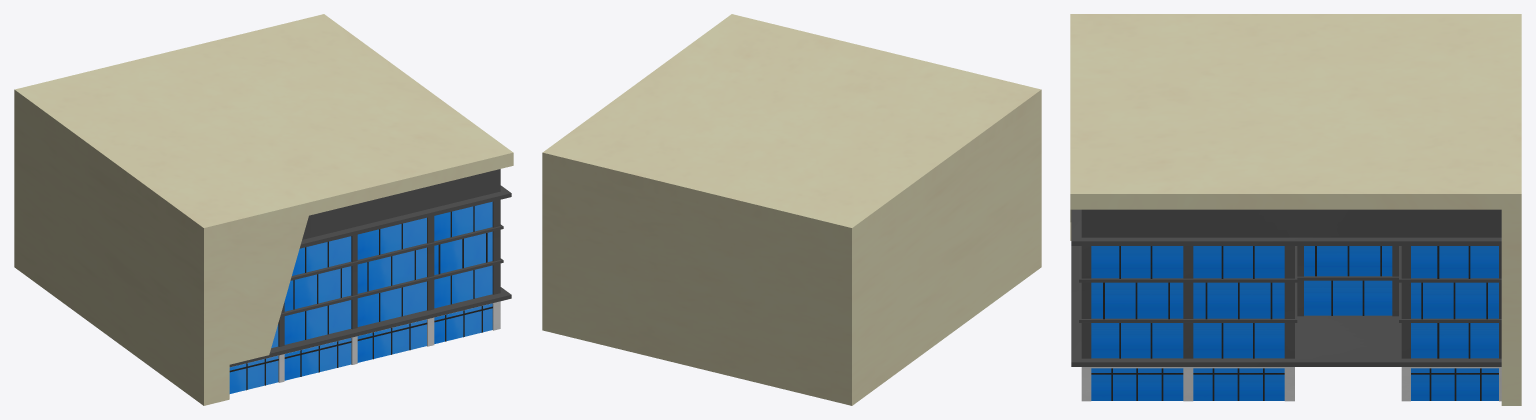
3 views of the same model, side by side, from view 1: azimuth 30°, elevation 25°; view 2: azimuth 150°, elevation 25°; view 3: azimuth 270°, elevation 25° (orthographic). The views are drawn at different scales.
Visible parts, largest first — view 1: Box022, Box021; view 2: Box022; view 3: Box022, Box021.
Part boxes in pixels (bbox=[...]): Box022: bbox=[14, 14, 513, 405]; Box021: bbox=[229, 201, 492, 393]; Box022: bbox=[542, 14, 1041, 405]; Box022: bbox=[1070, 14, 1521, 405]; Box021: bbox=[1091, 246, 1498, 400].
Size of the model in its own units: 1977 by 1085 by 2094.
